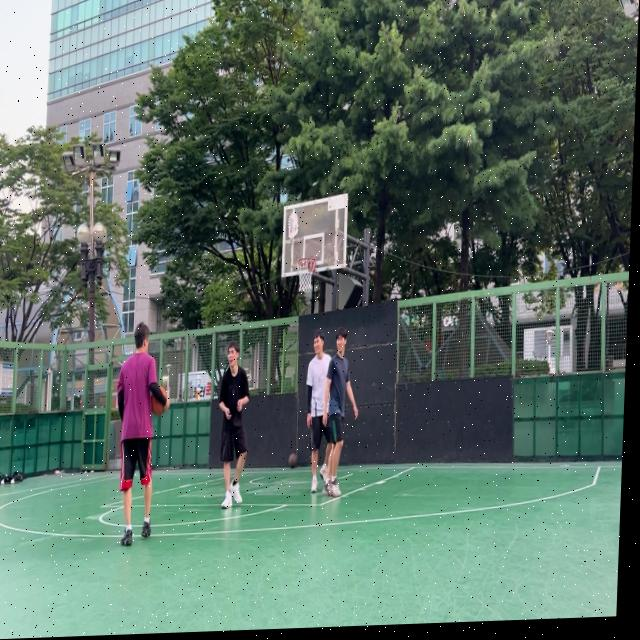basketball: (151, 385, 168, 416), (288, 453, 298, 468)
hoop: (295, 256, 316, 293)
